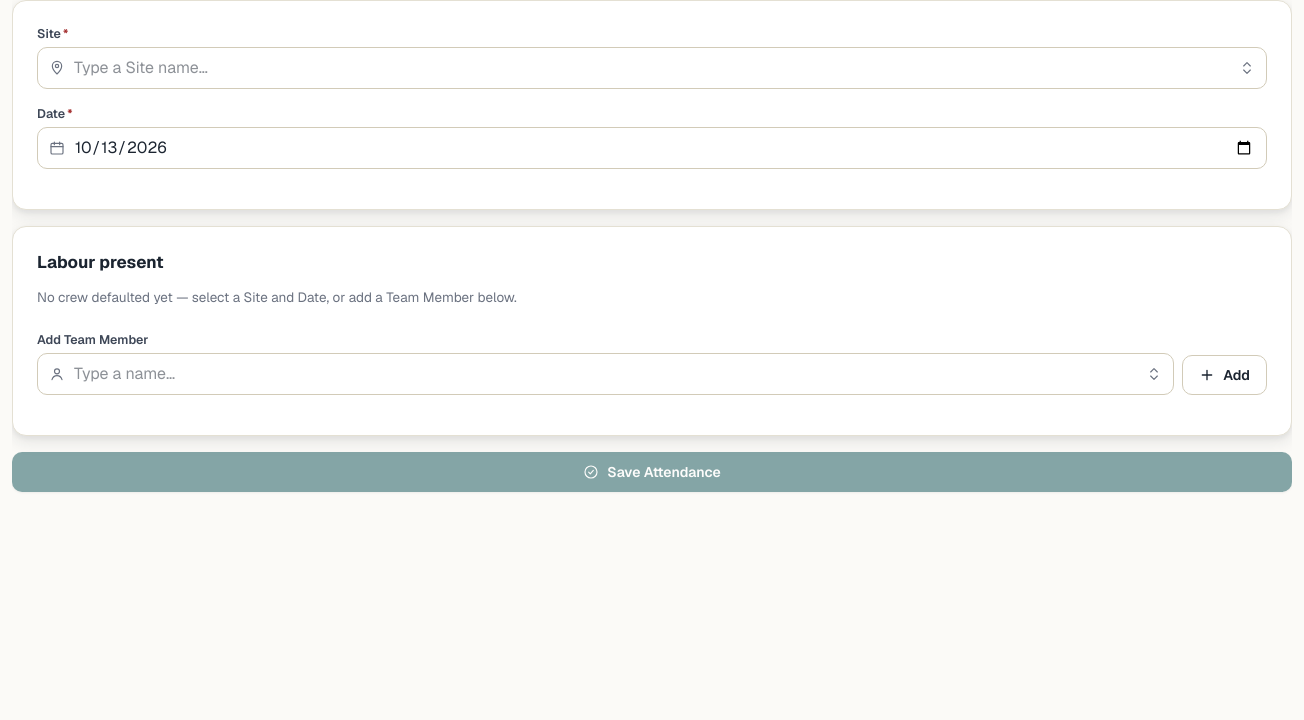
Test: WorkRecordForm › shows hours/overtime inputs only for a checked (attended) row, and hides them when unchecked
This screenshot has width=1304, height=720.
SiteField is a searchable combobox: type, then click the option.
Type "NH-48" into the dropdown labelled "Site".
click(652, 68); type("NH-48")  # box [37,47,1267,89]
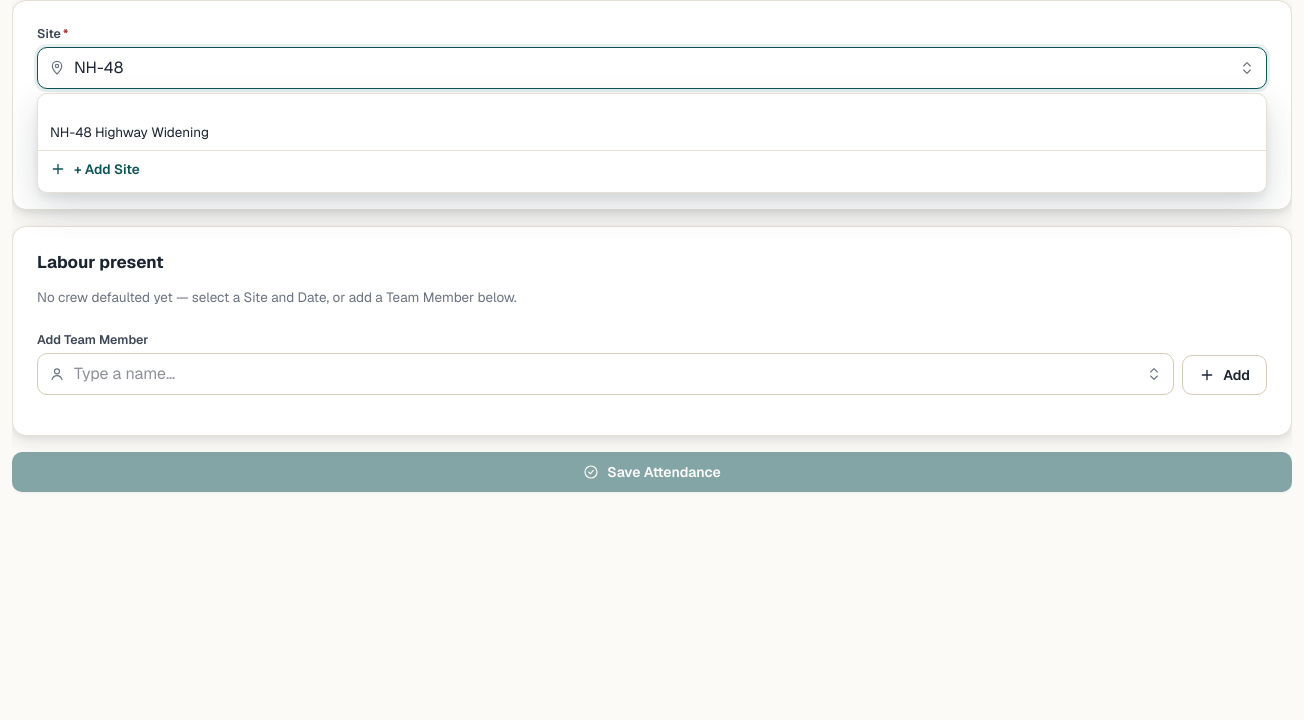
Click the option "NH-48 Highway Widening".
click(130, 132)  # box [50,123,209,141]
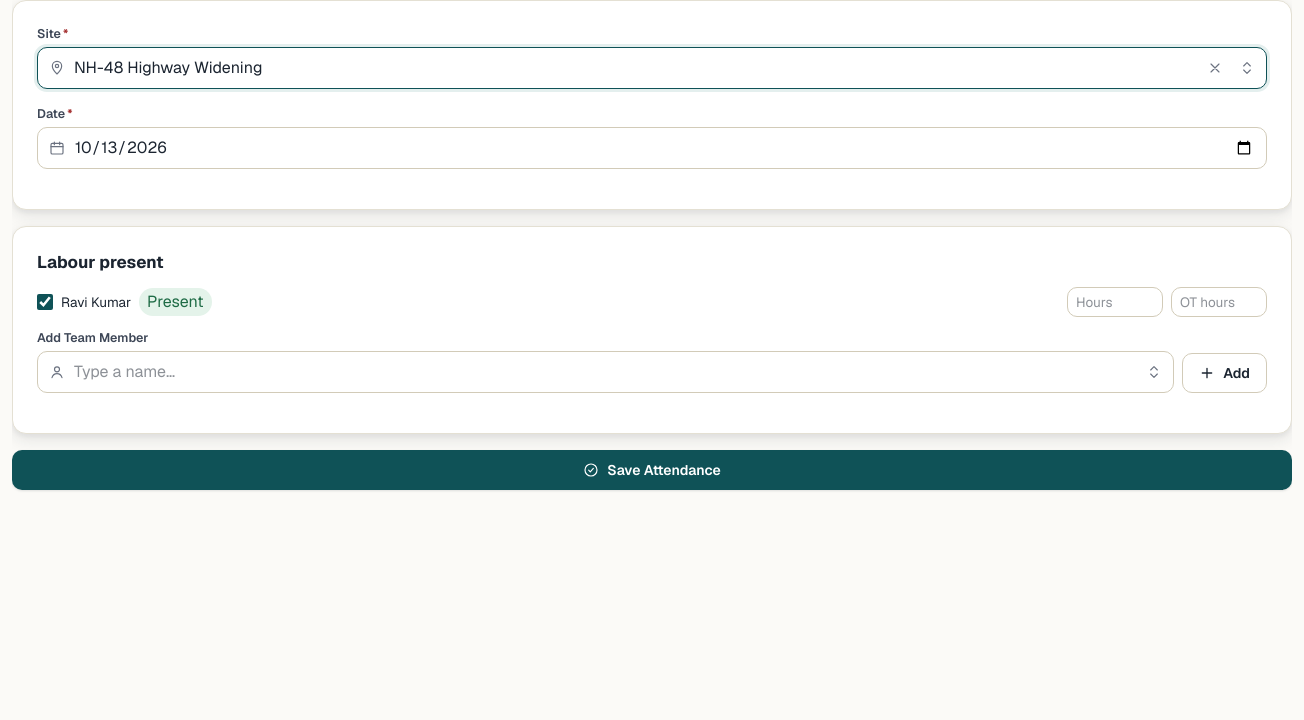
Expected: the text "Ravi Kumar" is shown, [61,292,131,312]
Expected: the number field named "Hours for Ravi Kumar" is shown, [1067,287,1163,317]
Expected: the text "Present" is shown, [139,288,212,316]
Click the checkbox labelled "Ravi Kumar".
click(45, 302)  # box [37,294,53,310]
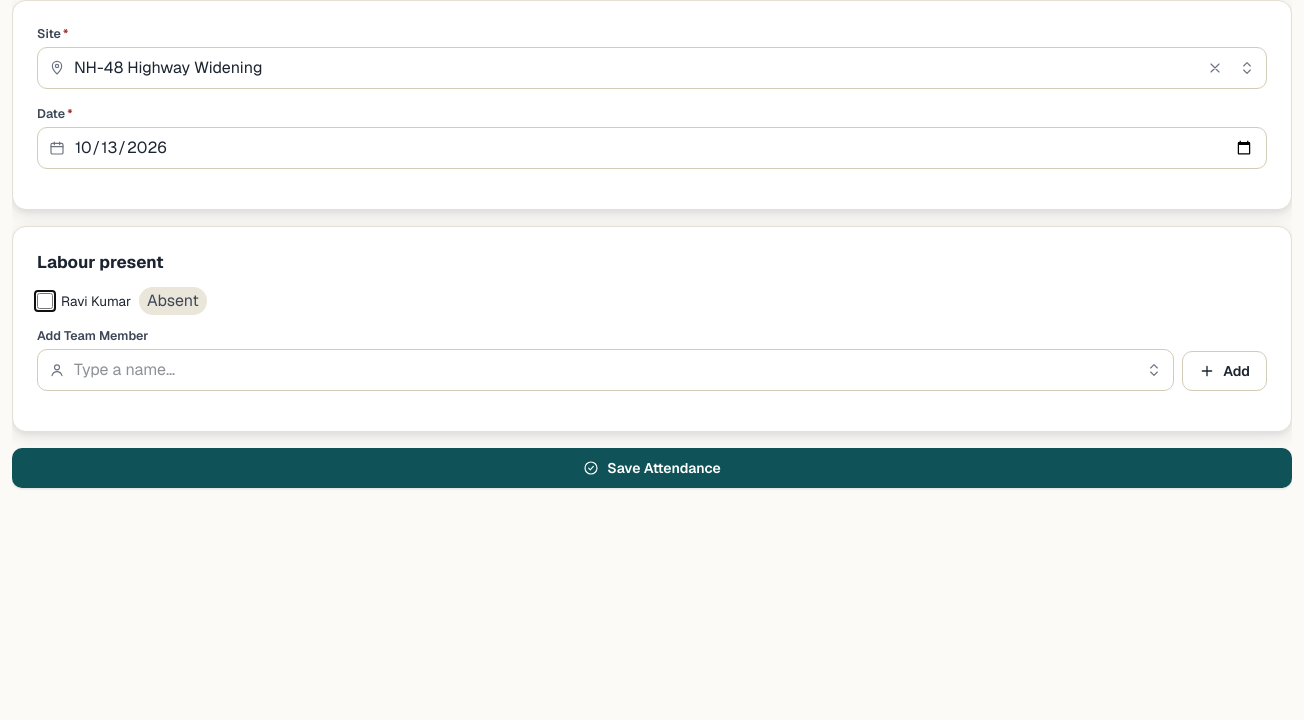
Expected: the text "Absent" is shown, [139,287,207,315]
